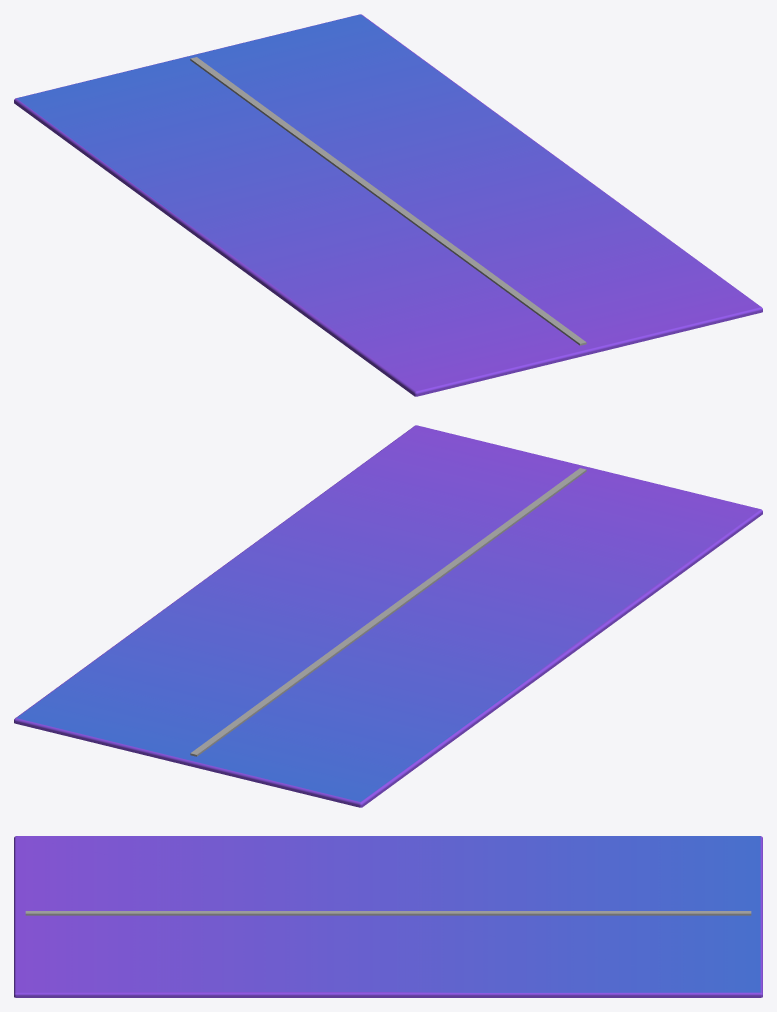
Rendered from Holdnote.glb.
3 views of the same model, one above another, from view 1: azimuth 30°, elevation 25°; view 2: azimuth 150°, elevation 25°; view 3: azimuth 270°, elevation 25° (orthographic). The views are drawn at different scales.
Visible parts, largest first — view 1: NoteBase; view 2: NoteBase; view 3: NoteBase.
Part boxes in pixels (bbox=[...]): NoteBase: bbox=[14, 14, 762, 396]; NoteBase: bbox=[14, 425, 762, 807]; NoteBase: bbox=[14, 836, 762, 997].
Size of the model in its own units: 4 by 0.0756 by 8.
Materials: 2 (1 with a texture image).
